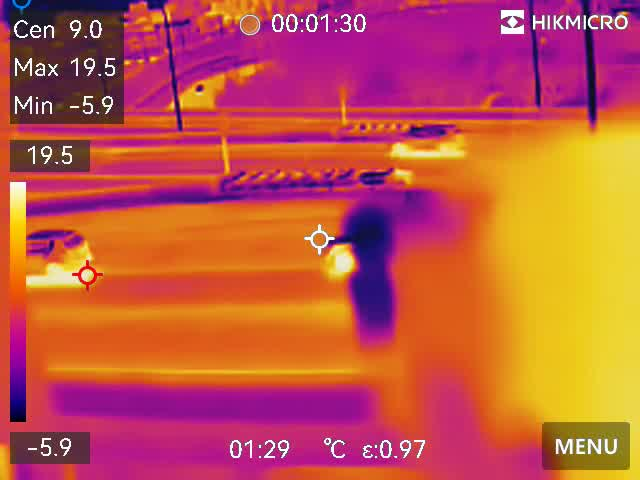vehicle: (17, 229, 104, 284), (388, 117, 471, 165)
